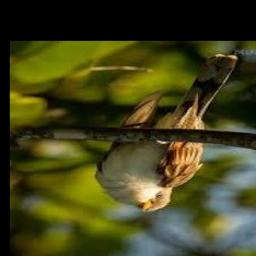Cuckoo: (96, 54, 236, 212)
